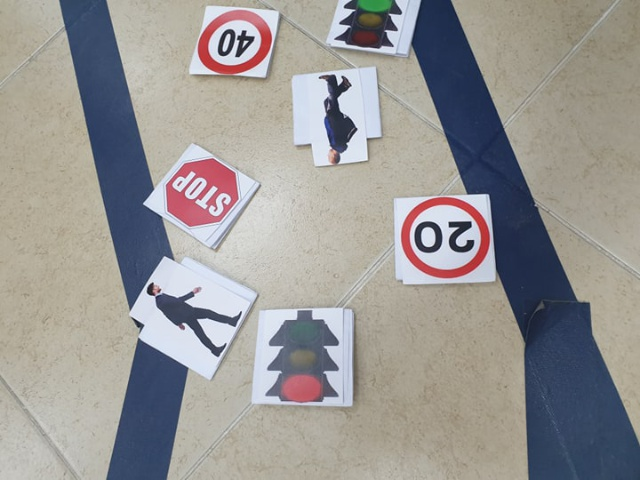Green: (340, 1, 406, 55)
Limit 20: (402, 198, 489, 278)
Limit 40: (198, 11, 274, 74)
Person: (143, 279, 241, 357), (314, 73, 360, 164)
Red: (262, 310, 342, 406)
Stop: (162, 158, 242, 227)
